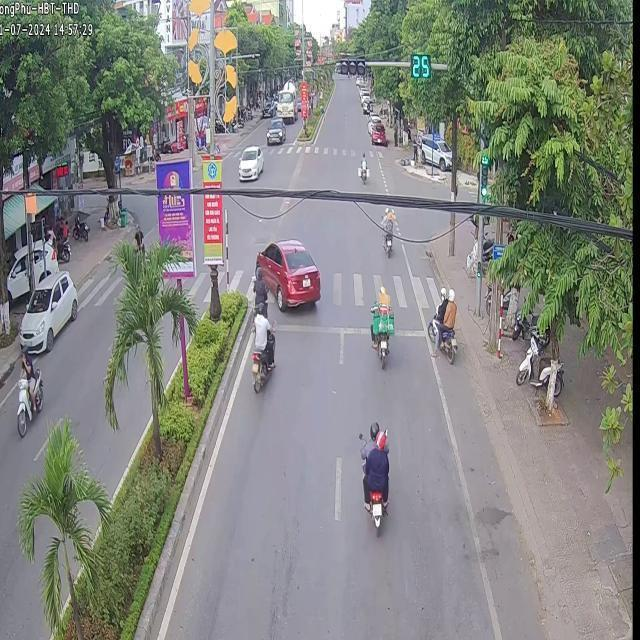car: (17, 269, 77, 351), (254, 238, 318, 309), (237, 145, 262, 180), (264, 116, 284, 141), (369, 120, 386, 144)
green_light: (413, 53, 430, 79), (480, 154, 487, 195)
motobike: (427, 287, 456, 361), (368, 285, 393, 367), (15, 371, 32, 436), (379, 205, 396, 256), (250, 347, 268, 391), (368, 489, 380, 536), (33, 367, 42, 409), (356, 151, 367, 182), (248, 331, 252, 344)
stop_line: (274, 322, 368, 334), (393, 327, 426, 336)
